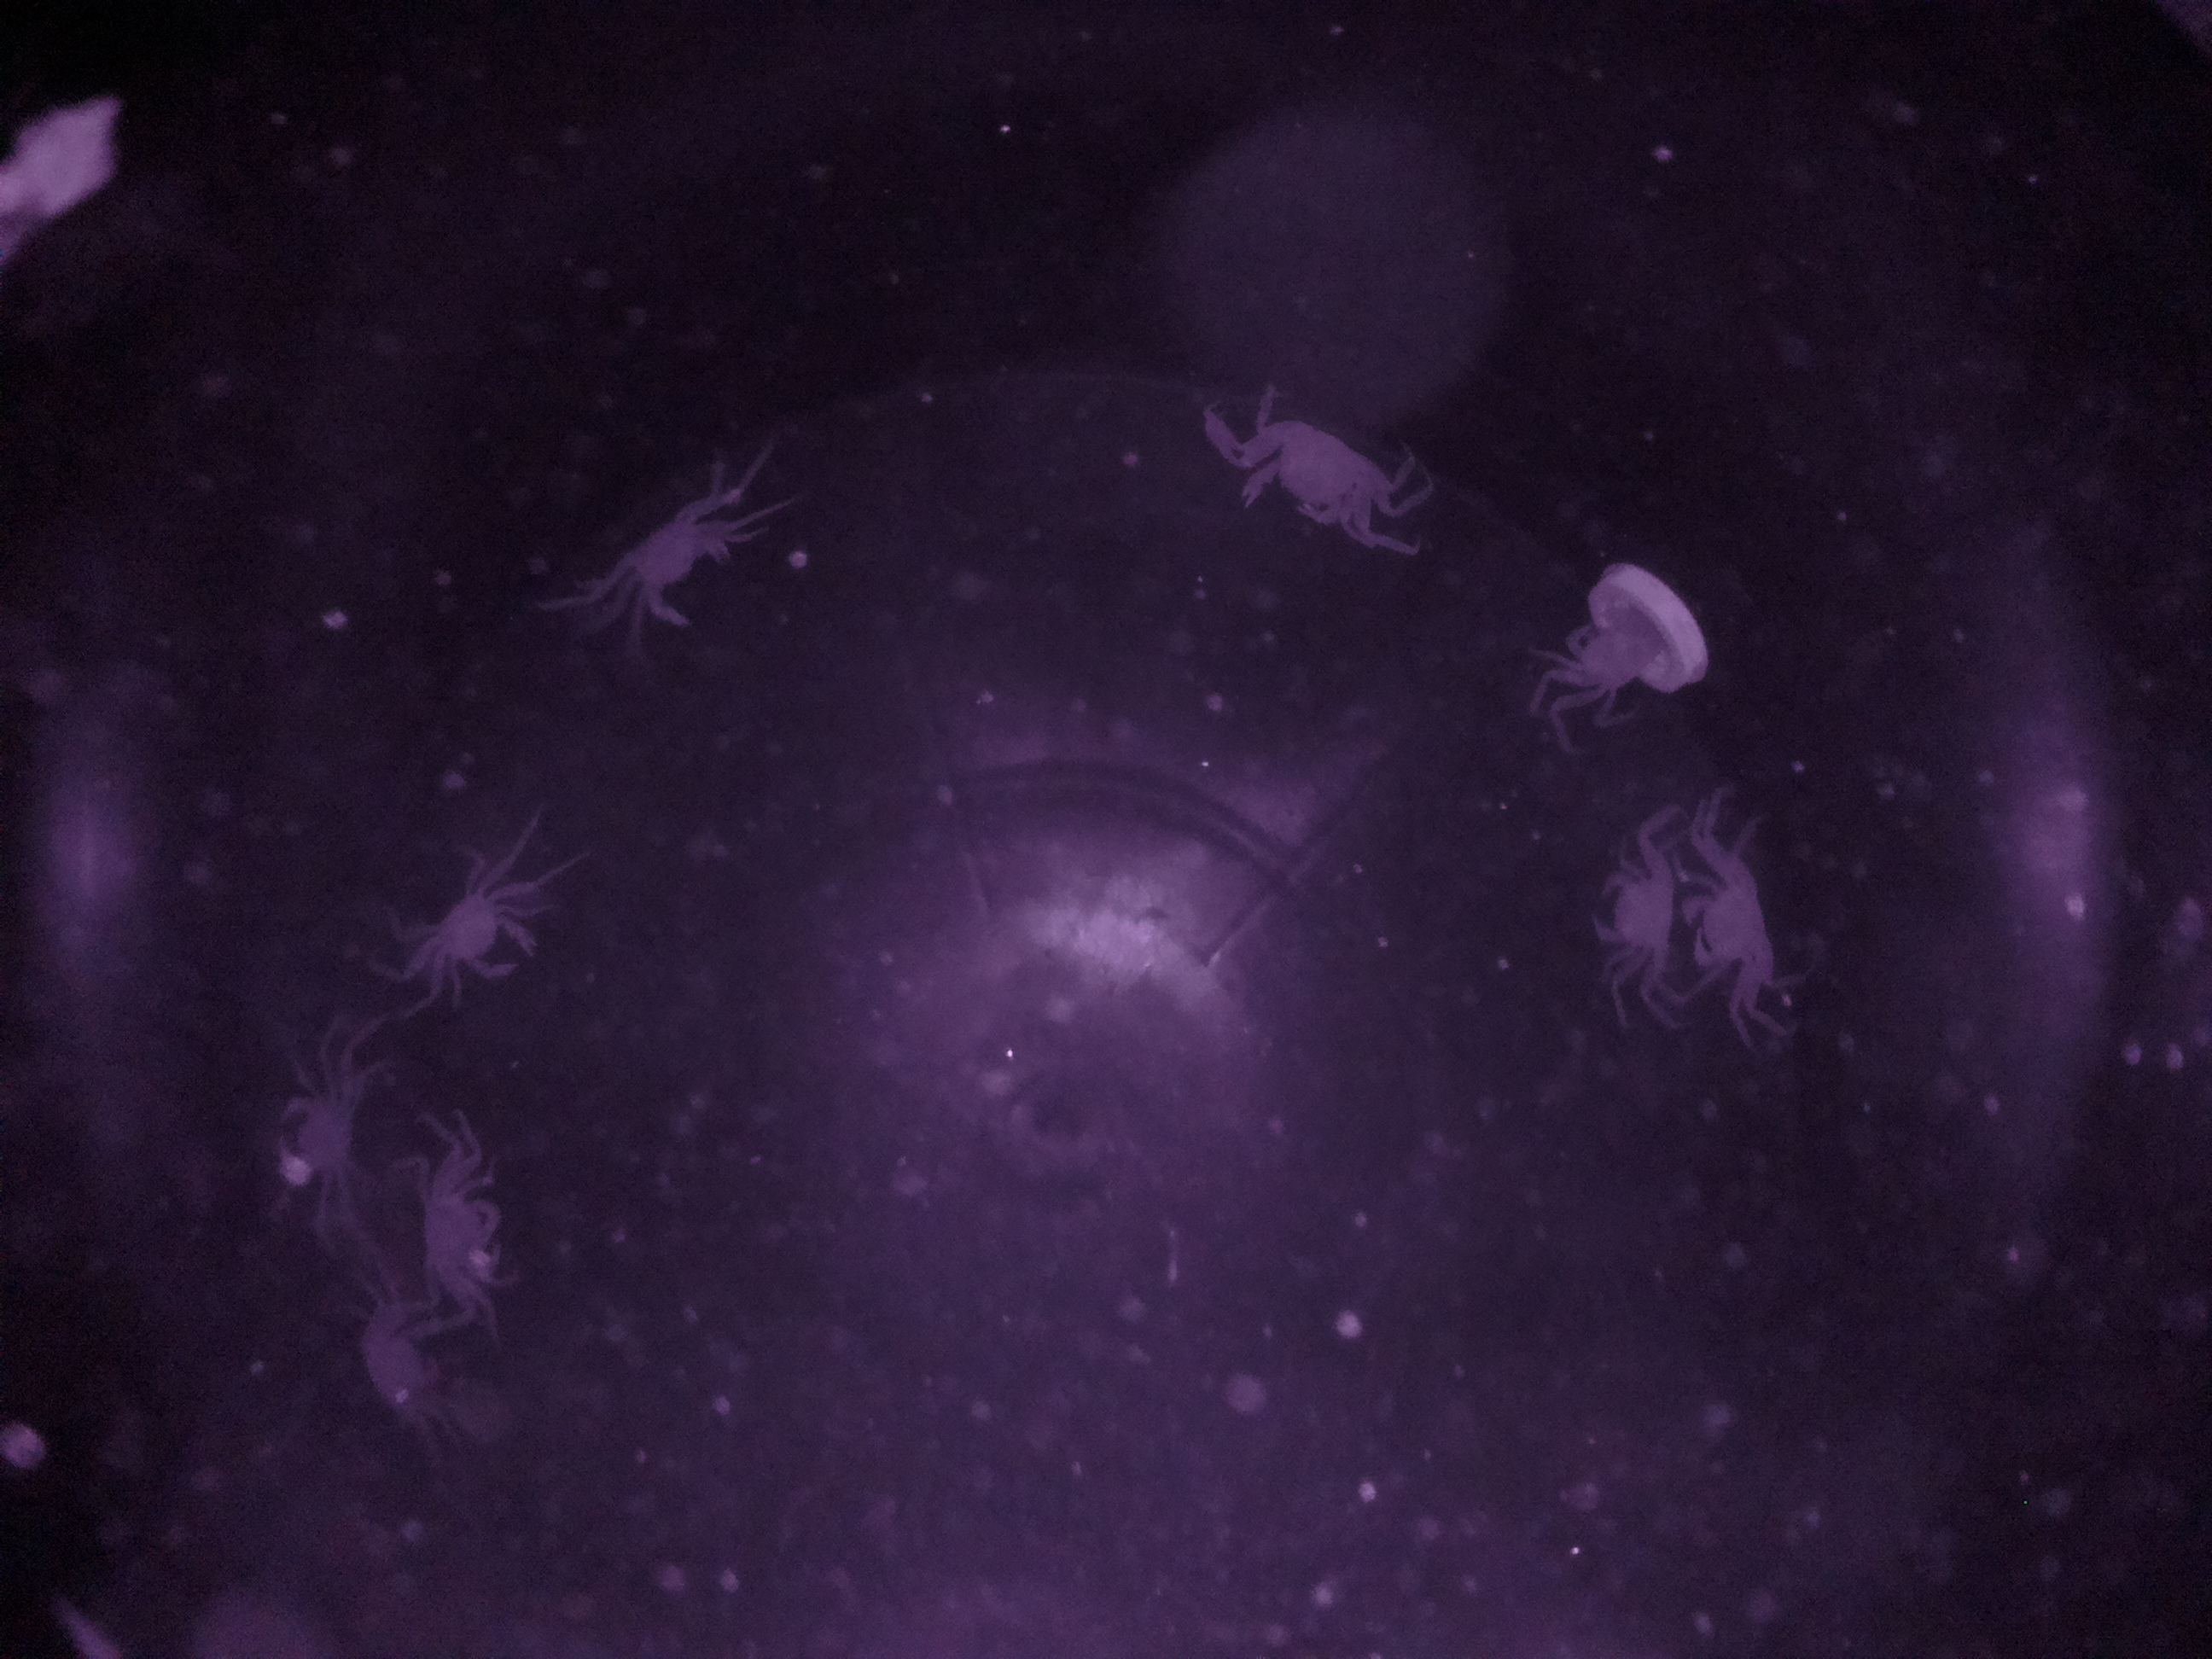Crab: (1230, 369, 1425, 577), (557, 472, 768, 655), (239, 1023, 394, 1244), (402, 1103, 538, 1349), (1689, 805, 1818, 1047), (1569, 823, 1679, 1066), (395, 852, 568, 1006)
